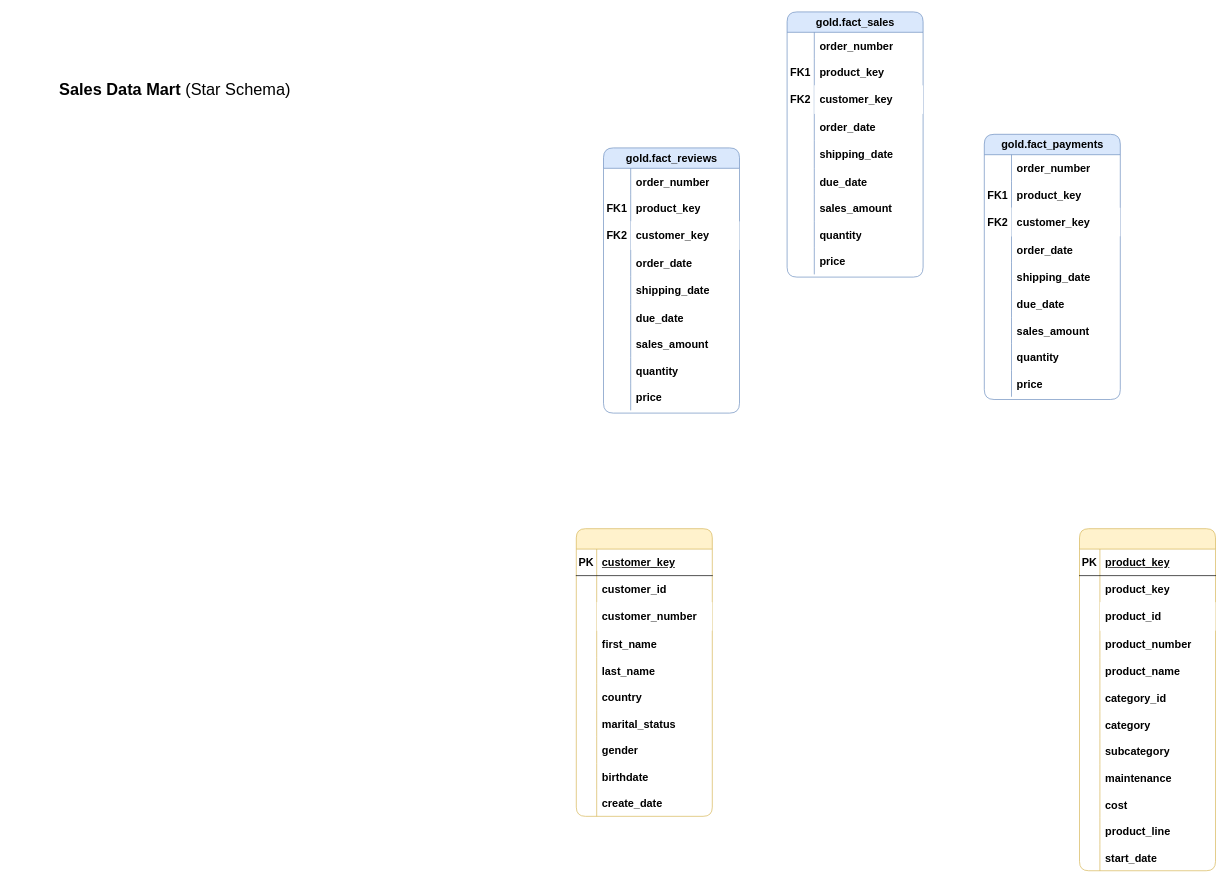
This 1227x883 diagram has some shape labels left out. Each missing label, with the box of its shape:
gold.dim_customers: (576, 528, 712, 816)
gold.dim_products: (1079, 528, 1216, 871)
